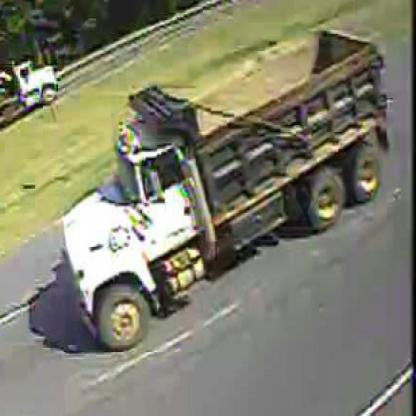truck: (64, 27, 387, 355)
